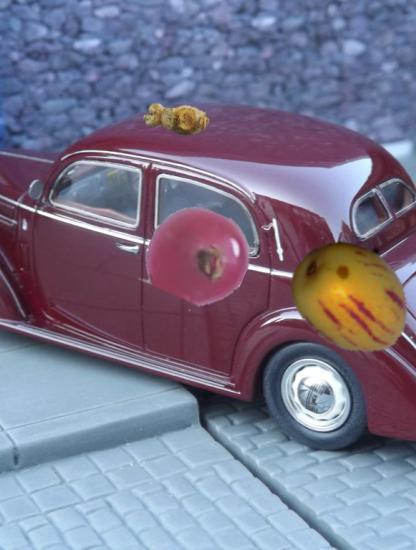Ginger: (142, 85, 211, 154)
Pepino: (288, 233, 413, 358)
Redcurrant: (149, 205, 250, 306)
